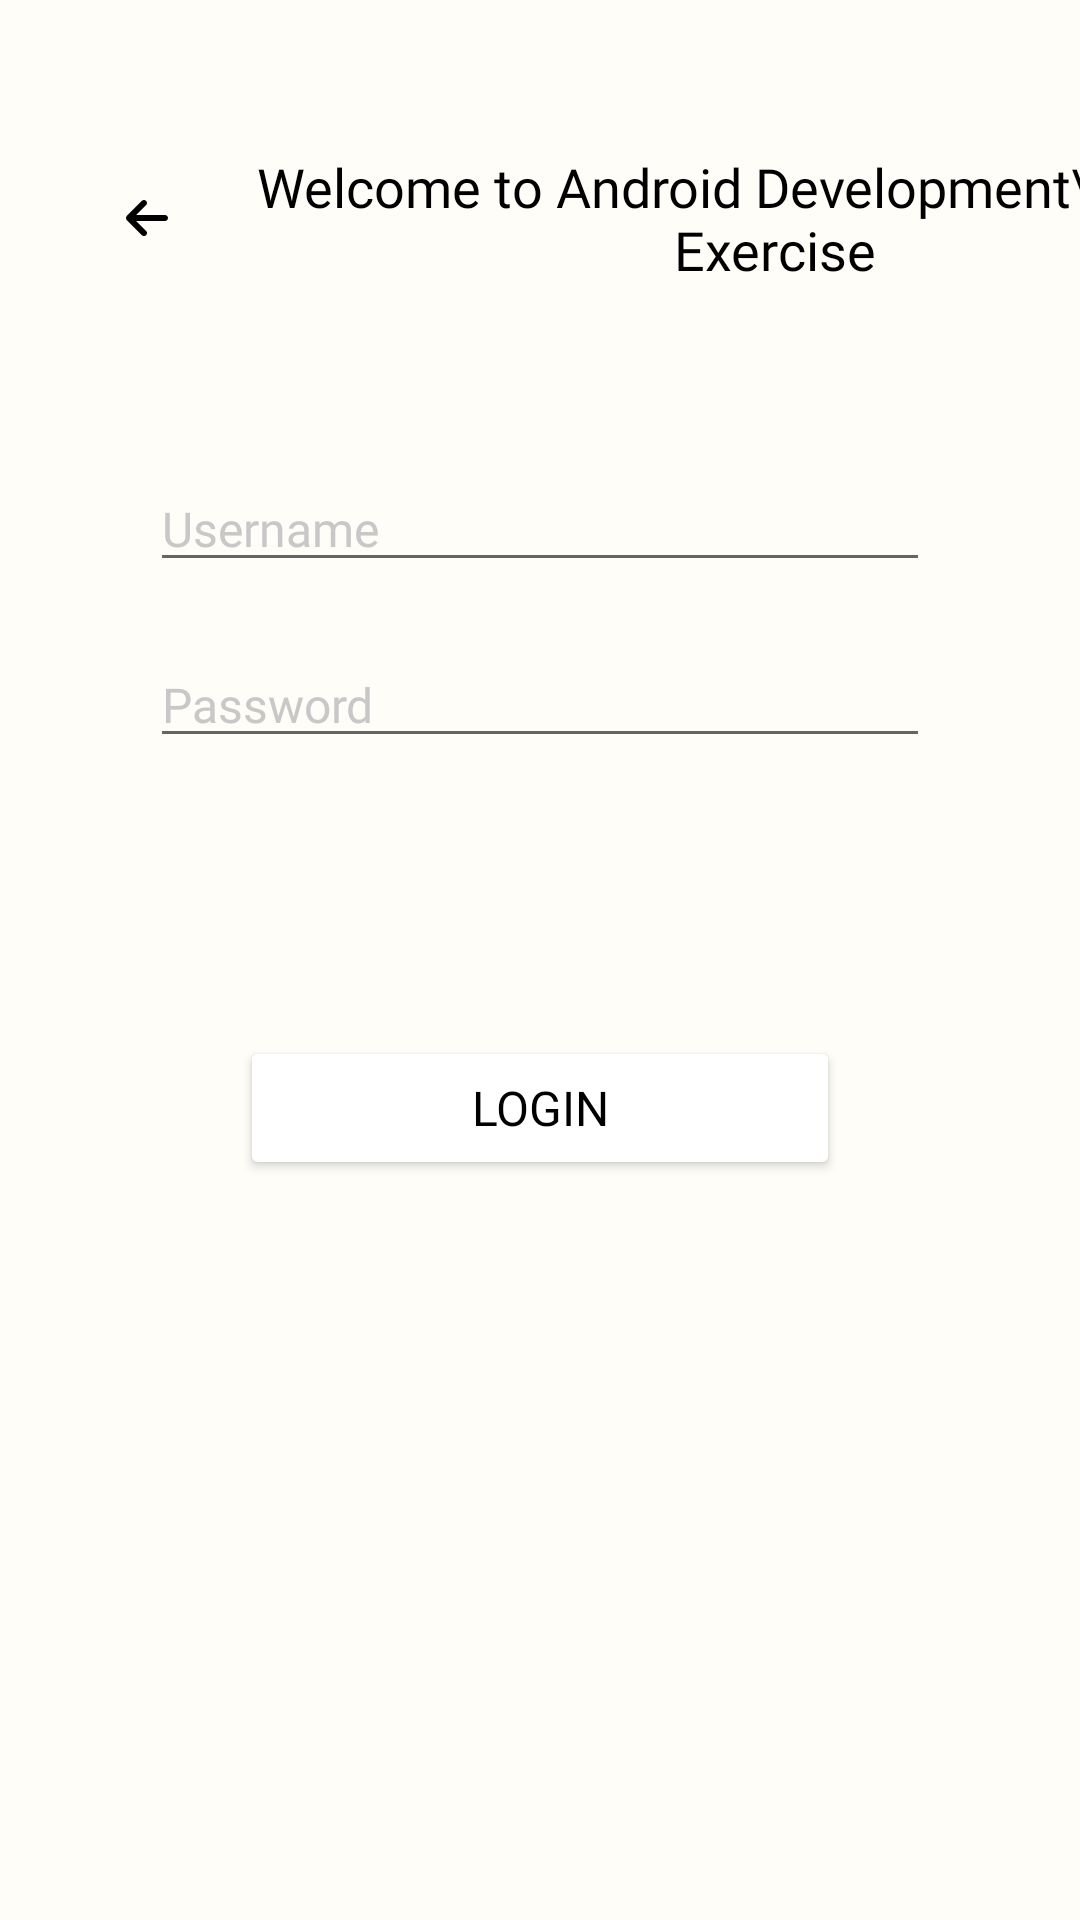

Icon bounding boxes for this 1080px x 1920px phone screenshot, format (x1, y1, x2, y2):
backarrow: (126, 200, 168, 236)
